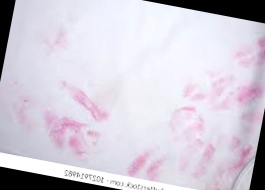lipstick: (120, 112, 255, 190), (38, 113, 104, 164), (47, 81, 116, 122), (164, 100, 214, 149), (180, 67, 229, 107), (0, 84, 32, 128), (228, 75, 265, 111), (235, 31, 265, 72), (42, 26, 70, 59)
